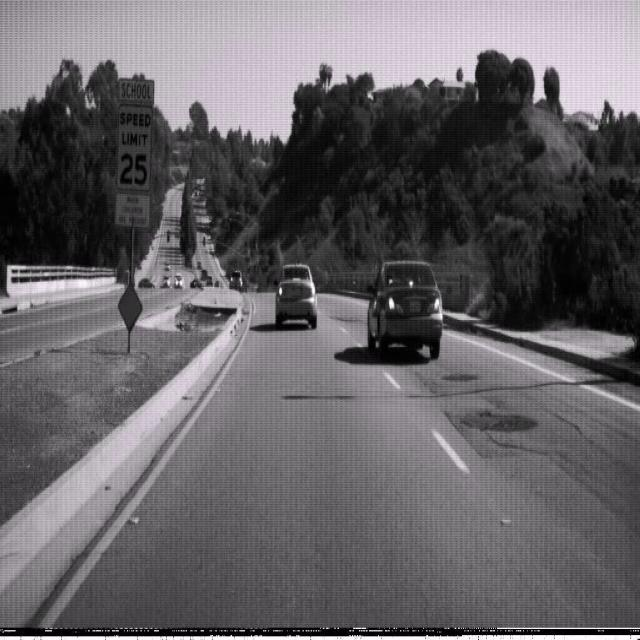speedLimit25: (114, 100, 154, 195)
